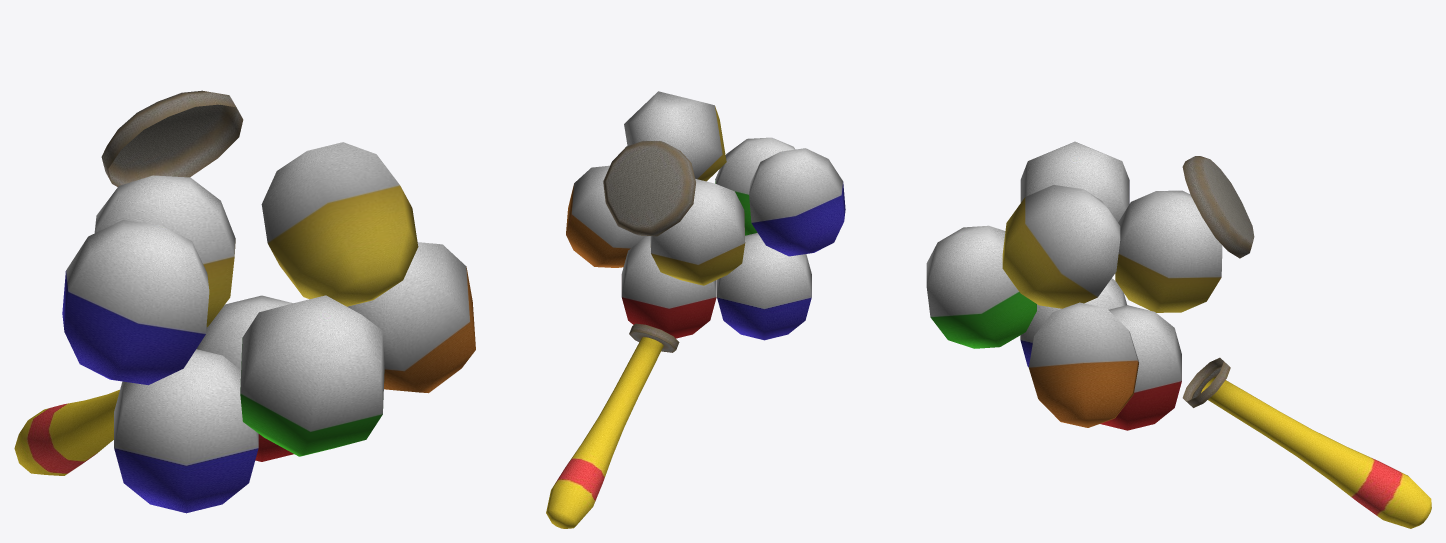
The model's file is Small Gatcha _ .fbx.
3 renders of one model, left to right at view 1: azimuth 30°, elevation 25°; view 2: azimuth 150°, elevation 25°; view 3: azimuth 270°, elevation 25°, orthographic. The views are drawn at different scales.
Parts seen in each view (by area): view 1: Ball02, Ball03, Ball04, Ball01, body, Ball05, Ball06, Ball07; view 2: body, Ball02, Ball01, Ball06, Ball07, Ball03, Ball05, Ball04; view 3: body, Ball03, Ball05, Ball06, Ball04, Ball07, Ball02, Ball01.
Boxes of the visible parts, x1,y1,x2,y2 form: Ball02: (62,220,209,385); Ball03: (261,142,418,306); Ball04: (240,295,384,456); Ball01: (114,349,258,513); body: (14,90,243,475); Ball05: (347,242,475,393); Ball06: (94,175,235,326); Ball07: (196,295,293,461); body: (546,141,695,528); Ball02: (749,148,845,256); Ball01: (717,233,811,340); Ball06: (650,179,745,285); Ball07: (621,236,716,338); Ball03: (624,91,726,181); Ball05: (566,165,647,267); Ball04: (715,137,795,235); body: (1182,156,1431,528); Ball03: (1002,185,1120,308); Ball05: (1028,302,1138,427); Ball06: (1115,190,1222,312); Ball04: (926,225,1036,348); Ball07: (1100,305,1181,430); Ball02: (1020,141,1129,222); Ball01: (1020,278,1126,366).
Bounding box in the file's own units: 97.41 × 105 × 118.
